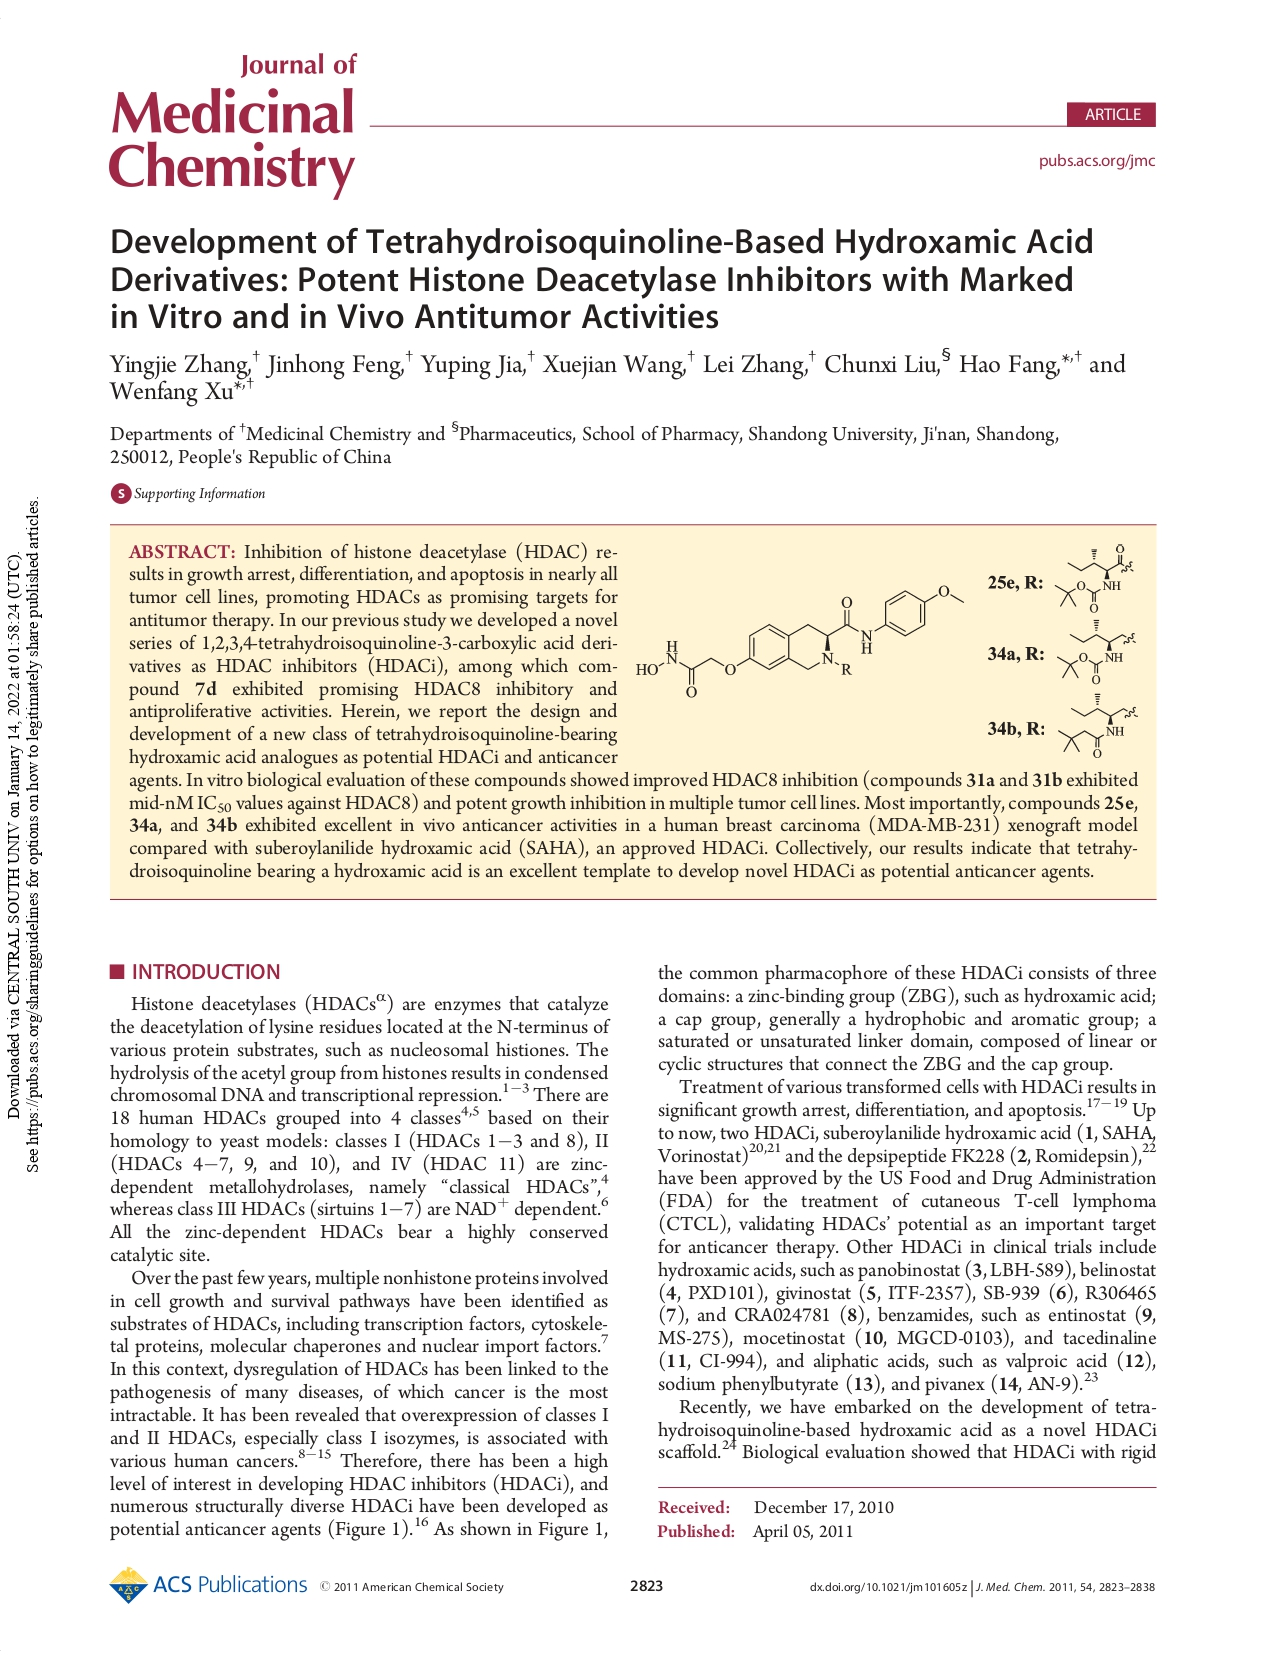exist_molecular: (632, 581, 965, 700), (1055, 543, 1138, 616), (1053, 616, 1138, 688), (1055, 688, 1141, 758)
